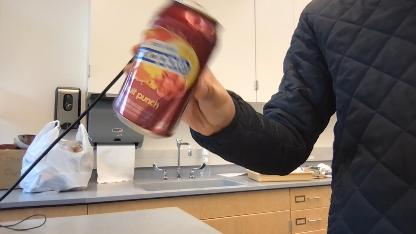Can: (118, 0, 210, 142)
